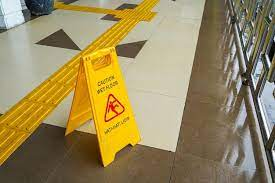wet caution sign: (66, 49, 147, 156)
